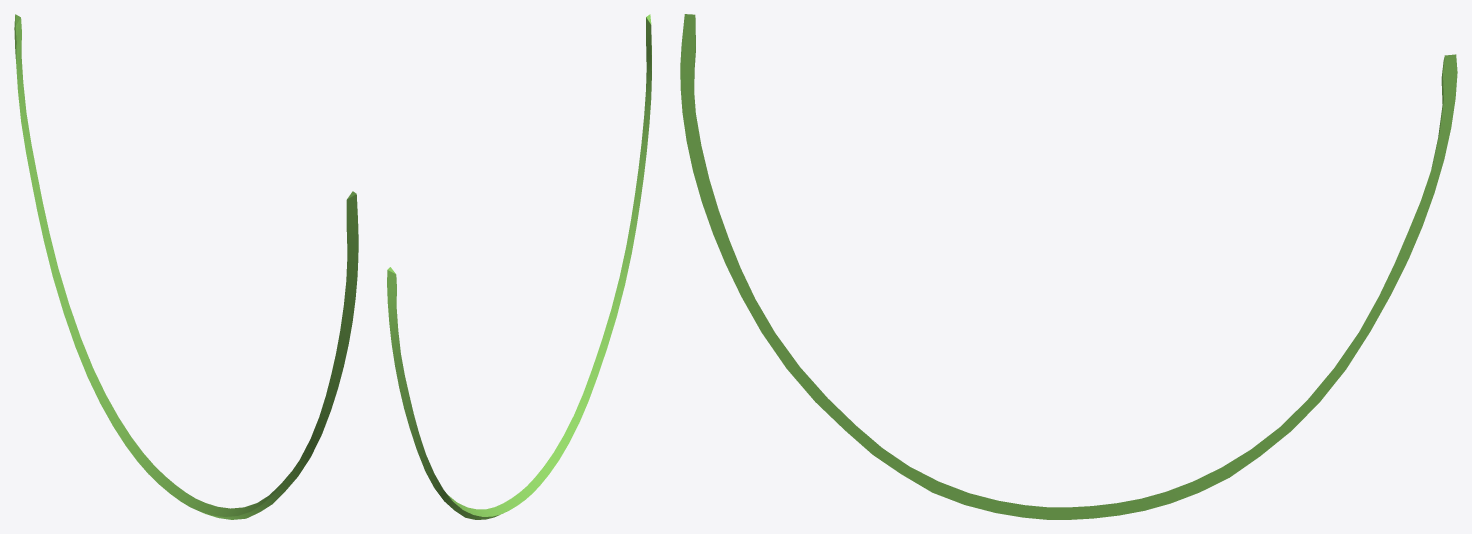
The model's file is lianas_F.fbx.
3 renders of one model, left to right at view 1: azimuth 30°, elevation 25°; view 2: azimuth 150°, elevation 25°; view 3: azimuth 270°, elevation 25°, orthographic. The views are drawn at different scales.
Parts seen in each view (by area): view 1: liana_F_thick; view 2: liana_F_thick; view 3: liana_F, liana_F_thick.
Part boxes in pixels (x1,y1,x2,y2): liana_F_thick: [14, 14, 358, 519]; liana_F_thick: [387, 14, 651, 519]; liana_F: [680, 14, 1456, 519]; liana_F_thick: [680, 18, 1457, 517].
Bounding box in the file's own units: 10.17 × 134 × 184.
